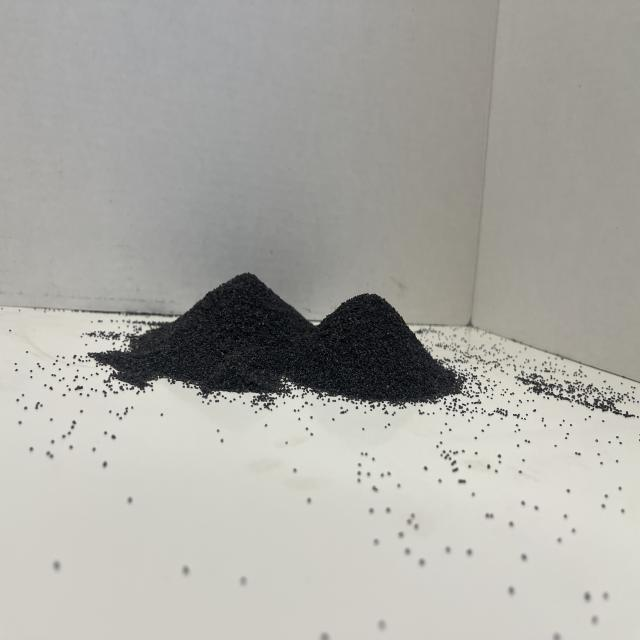Poppy Seeds: (129, 238, 471, 459)
